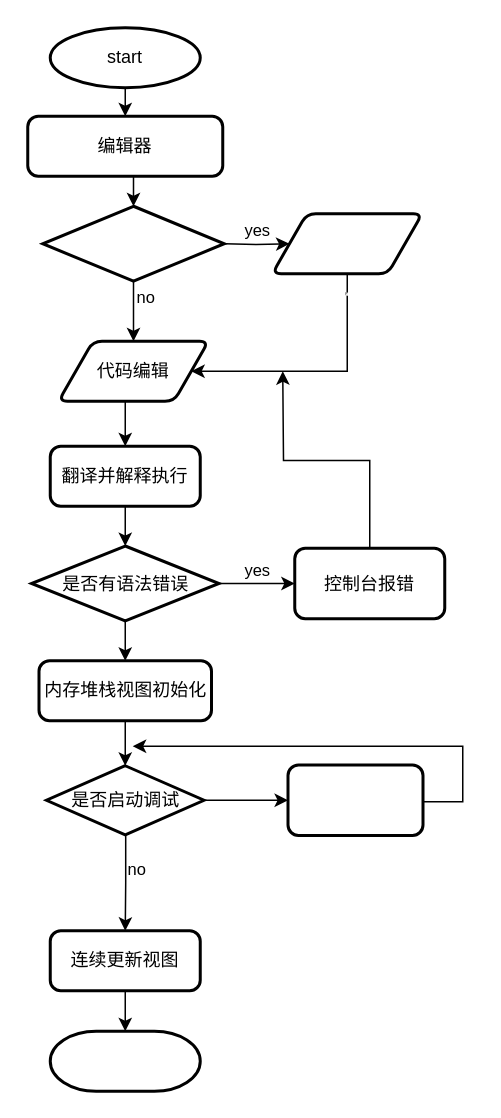
This 501x1118 diagram has some shape labels left out. The shapes that lost their labels are listed below. From the top down, each one's centre as x and y in pixels, then its label:
At (132,243): "是否导入源文件".
At (346,243): "示例&源文件".
At (355,799): "步进并更新视图".
At (124,1060): "结束".
